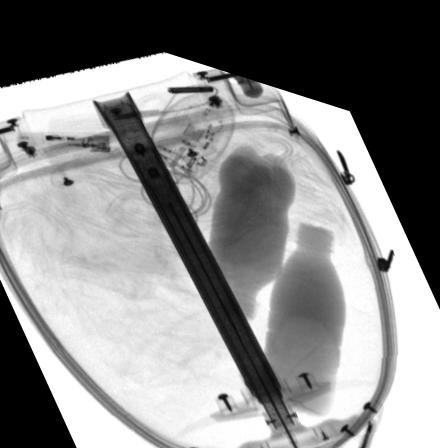Lighter: (16, 128, 112, 147)
